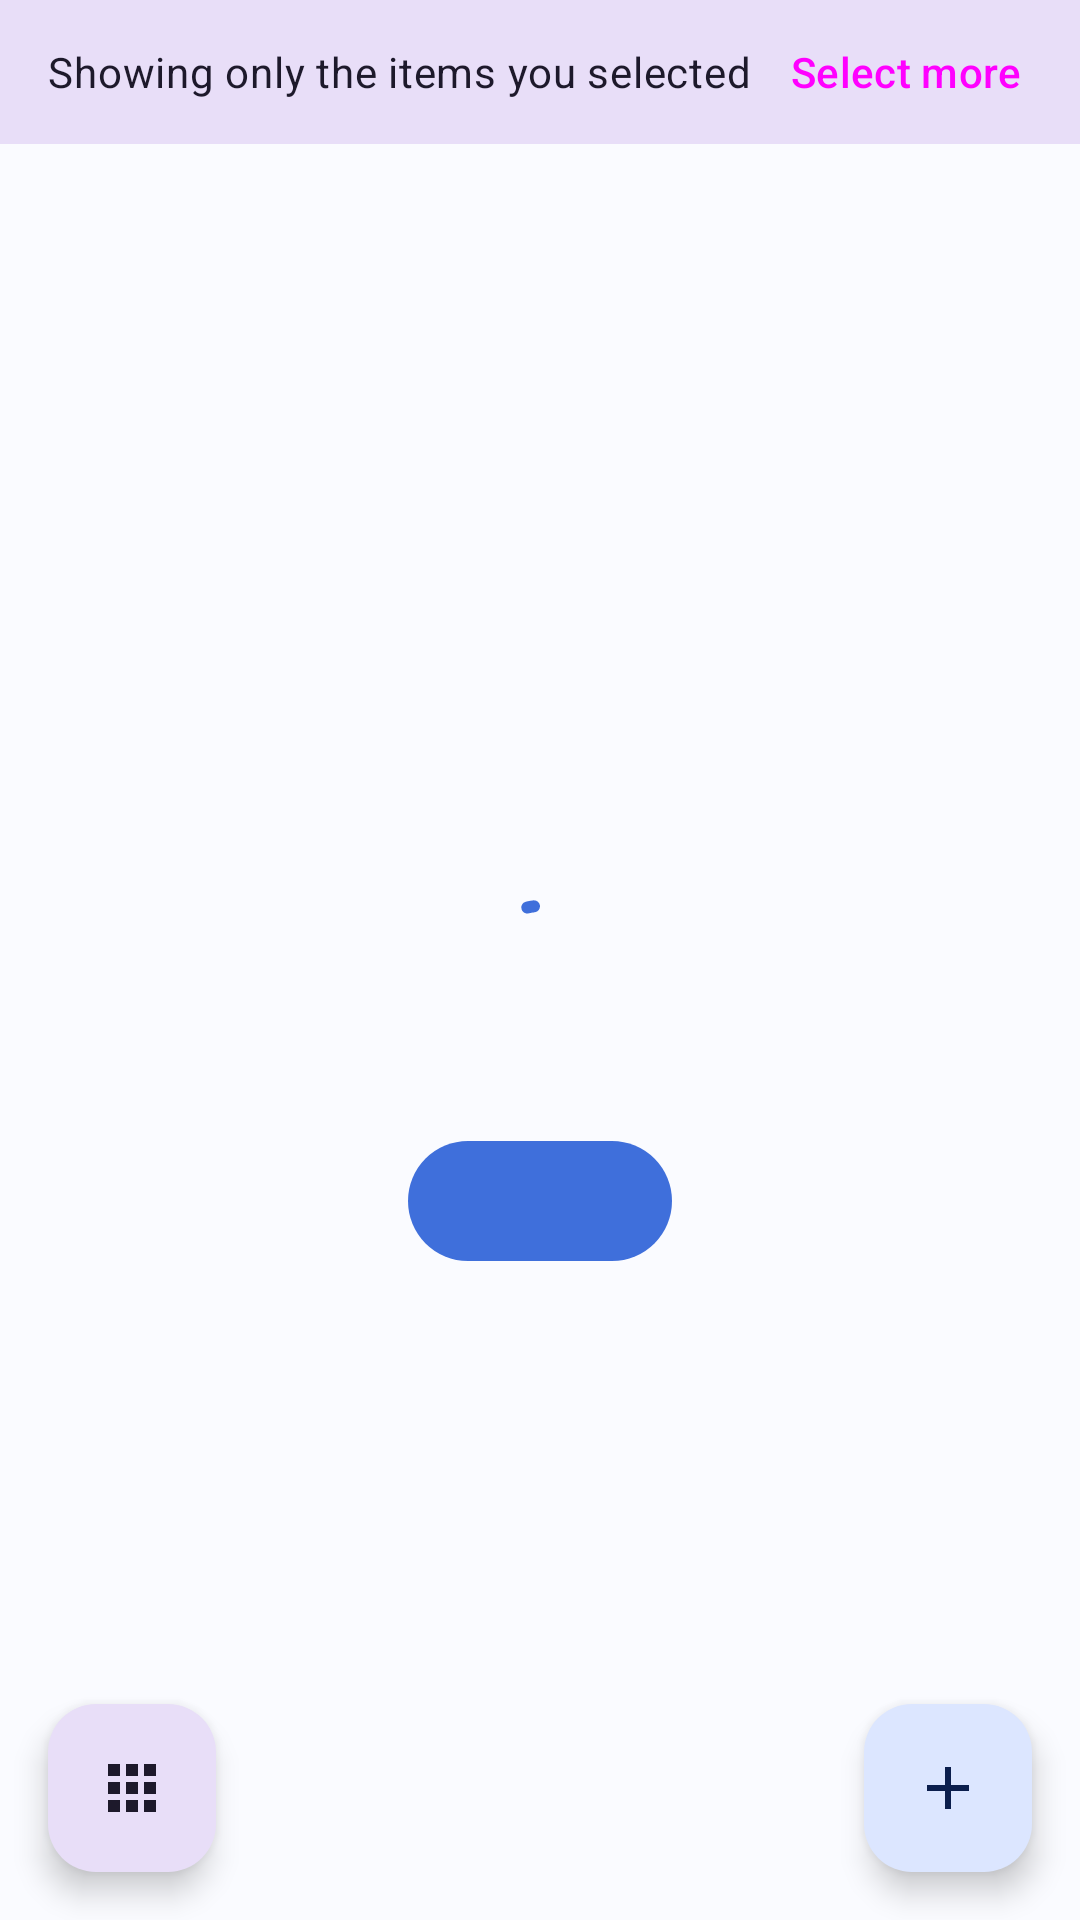

Where to tap for icons on this 1080px×1920px app screen, as (x,y):
Create album: (948,1788)
